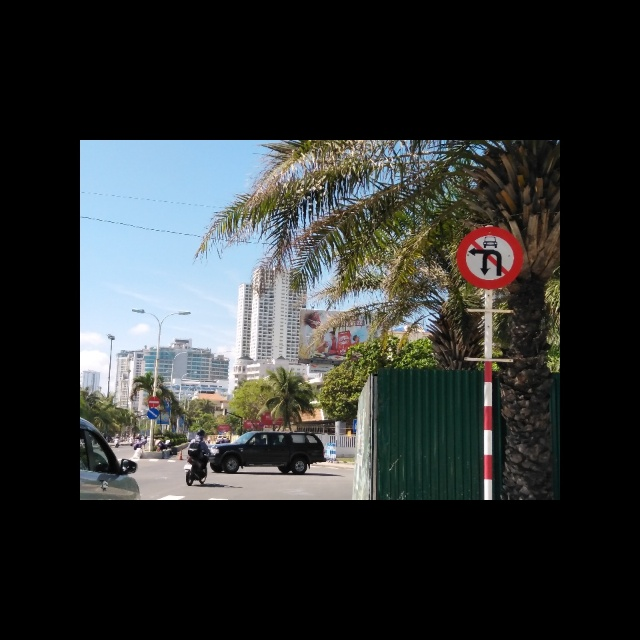Cấm xe ô tô quay đầu và rẽ trái: (454, 227, 524, 290)
